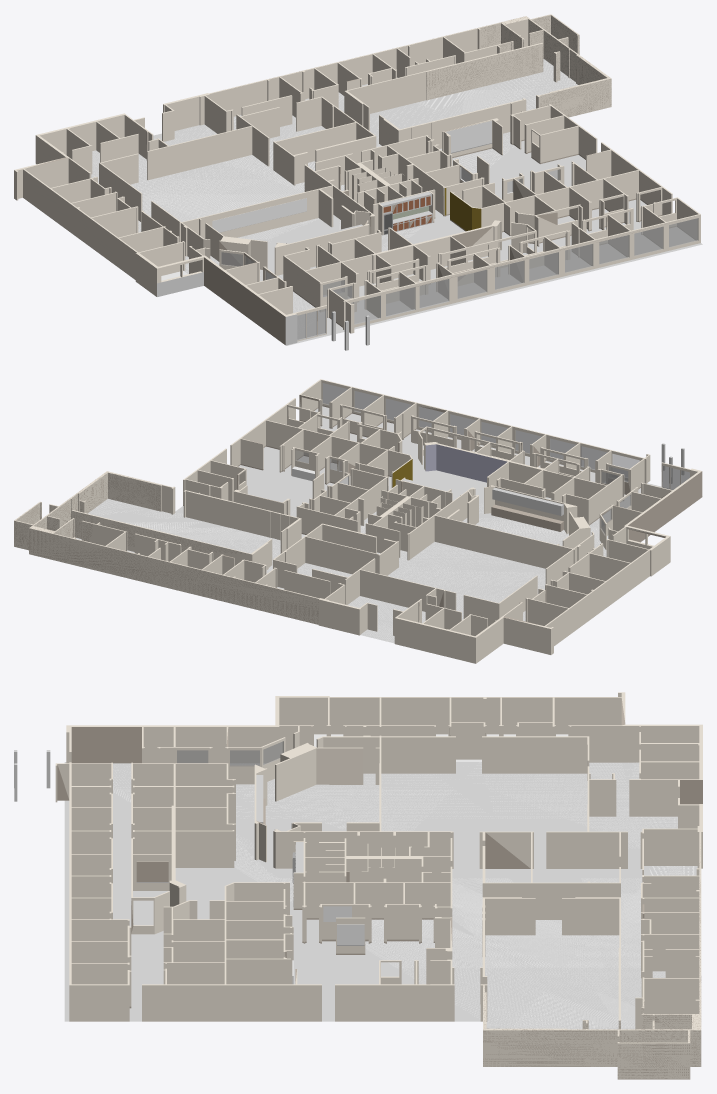
Rendered from willowgarage_visual.dae.
The picture shows the model from 3 angles, top to bottom: view 1: azimuth 30°, elevation 25°; view 2: azimuth 150°, elevation 25°; view 3: azimuth 270°, elevation 25°; orthographic projection. The views are drawn at different scales.
Parts seen in each view (by area): view 1: SketchUp, instance_0.021, instance_0.006, instance_0.041, instance_0.052, instance_0.038, instance_0.005, instance_0.032, instance_0.004, instance_0.002, instance_0.036, instance_0.053 (+29 smaller); view 2: SketchUp, instance_0.006, instance_0.021, instance_0.041, instance_0.052, instance_0.032, instance_0.038, instance_0.004, instance_0.036, instance_0.020, instance_0.002, instance_0.023 (+12 smaller); view 3: SketchUp, instance_0.021, instance_0.006, instance_0.052, instance_0.041, instance_0.038, instance_0.036, instance_0.032, instance_0.053, instance_0.023, instance_0.004, instance_0.002 (+9 smaller).
Part boxes in pixels (<box>): SketchUp: <box>91,59,702,345</box>; instance_0.021: <box>14,113,326,341</box>; instance_0.006: <box>162,14,611,141</box>; instance_0.041: <box>327,197,700,333</box>; instance_0.052: <box>450,142,672,245</box>; instance_0.038: <box>283,220,536,311</box>; instance_0.005: <box>344,43,543,130</box>; instance_0.032: <box>151,164,374,256</box>; instance_0.004: <box>273,96,376,185</box>; instance_0.002: <box>147,107,279,180</box>; instance_0.036: <box>361,135,484,215</box>; instance_0.053: <box>510,104,597,162</box>; SketchUp: <box>76,406,702,643</box>; instance_0.006: <box>14,471,377,635</box>; instance_0.021: <box>393,462,701,663</box>; instance_0.041: <box>299,379,650,494</box>; instance_0.052: <box>230,398,412,487</box>; instance_0.032: <box>407,487,594,585</box>; instance_0.038: <box>418,426,624,524</box>; instance_0.004: <box>273,523,398,588</box>; instance_0.036: <box>296,468,388,534</box>; instance_0.020: <box>183,490,301,553</box>; instance_0.002: <box>312,558,456,620</box>; instance_0.023: <box>365,477,452,557</box>; SketchUp: <box>64,734,697,1029</box>; instance_0.021: <box>66,692,702,816</box>; instance_0.006: <box>480,798,702,1079</box>; instance_0.052: <box>142,882,321,1021</box>; instance_0.041: <box>55,762,131,1021</box>; instance_0.038: <box>131,762,235,934</box>; instance_0.036: <box>302,866,452,942</box>; instance_0.032: <box>273,735,455,868</box>; instance_0.053: <box>335,959,454,1021</box>; instance_0.023: <box>293,838,452,908</box>; instance_0.004: <box>479,831,620,919</box>; instance_0.002: <box>546,766,627,868</box>.
Bounding box in the file's own units: 58.63 × 48.62 × 2.84.
